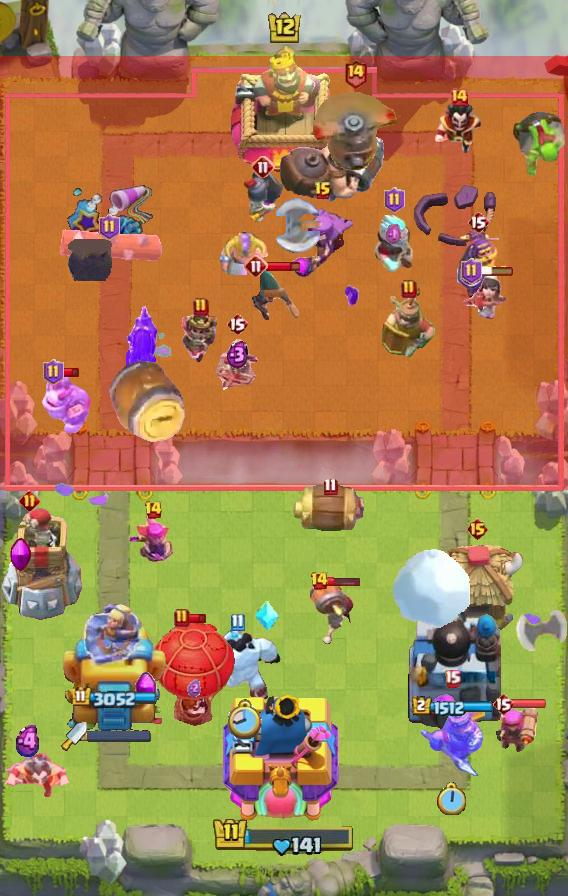archer-evolution: (126, 509, 181, 575)
axe: (273, 197, 329, 255), (516, 610, 568, 670)
bandit: (249, 268, 299, 324)
bar: (266, 260, 301, 273), (479, 265, 515, 277), (326, 575, 361, 587), (511, 698, 547, 709), (188, 613, 207, 624), (61, 367, 80, 378)
bar-level: (343, 58, 368, 89), (244, 254, 268, 278), (251, 155, 275, 179), (466, 517, 489, 541), (43, 359, 64, 385), (461, 258, 482, 284), (99, 214, 120, 240), (384, 187, 405, 213), (492, 692, 514, 716), (226, 312, 248, 336), (467, 210, 489, 234), (19, 490, 40, 511), (449, 87, 469, 107), (310, 571, 329, 591), (144, 500, 163, 520), (314, 181, 332, 201), (444, 669, 461, 688), (174, 608, 190, 628), (193, 297, 209, 317), (401, 279, 417, 299), (230, 613, 245, 632), (323, 477, 338, 496)
barbarian-barrel: (292, 485, 368, 535)
bomb: (68, 239, 112, 281)
bomber-evolution: (126, 295, 162, 389)
cannoneer-tower: (405, 595, 501, 731)
clock: (228, 699, 263, 741), (437, 782, 468, 818)
dagger-duchess-tower: (59, 595, 169, 731)
dagger-duchess-tower-bar: (87, 730, 151, 742)
electro-wizard: (0, 745, 74, 803), (434, 103, 484, 155)
elite-barbarian: (220, 232, 269, 275)
elixir: (13, 725, 44, 758), (226, 340, 249, 369), (385, 223, 403, 246), (187, 679, 201, 697)
evolution-symbol: (135, 671, 158, 705), (10, 538, 32, 572)
firecracker: (496, 702, 541, 752)
goblin-ball: (510, 109, 568, 181)
guard: (239, 170, 287, 226)
ice-spirit-evolution-symbol: (254, 600, 280, 632)
ice-wizard: (371, 212, 417, 276)
king-tower: (223, 689, 345, 826), (231, 45, 337, 181)
king-tower-bar: (212, 816, 356, 858)
knight-evolution: (457, 230, 499, 300)
little-prince: (177, 309, 226, 371)
mega-minion: (40, 373, 94, 433)
mother-witch: (289, 206, 357, 280)
princess: (214, 339, 260, 397), (459, 270, 509, 322)
royal-recruit: (382, 287, 436, 359)
the-log: (56, 229, 163, 265)
tower-bar: (71, 686, 158, 708), (412, 696, 495, 717)
wall-breaker: (307, 577, 355, 647)
